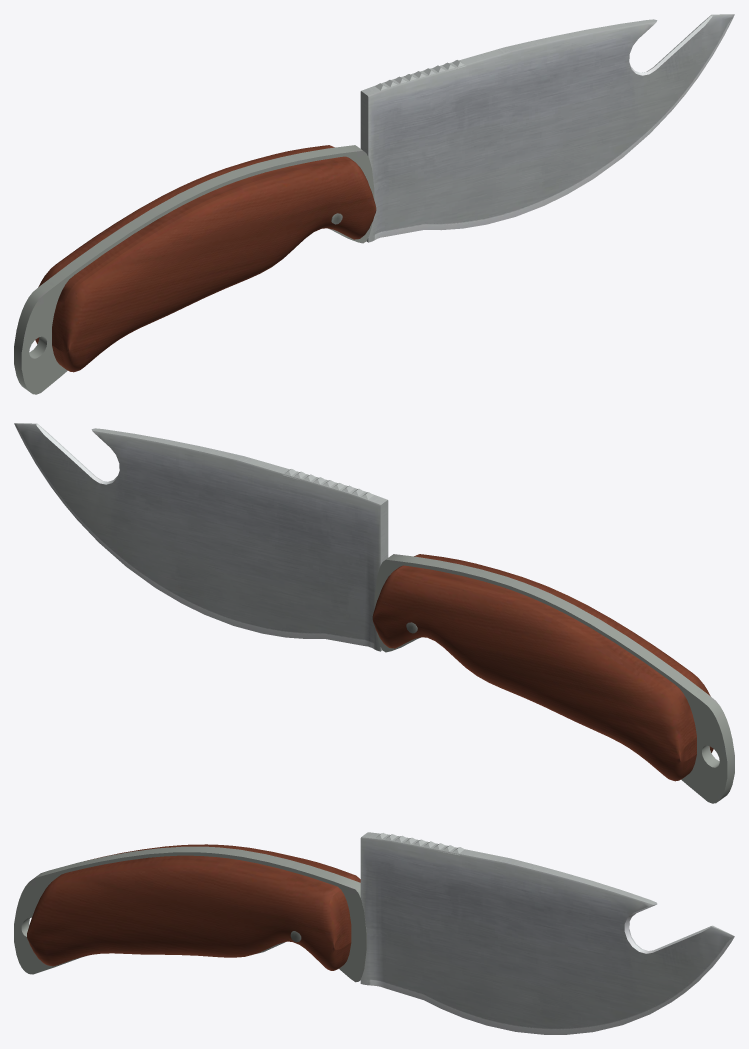
File: gut_lod1.glb
3 views of the same model, one above another, from view 1: azimuth 30°, elevation 25°; view 2: azimuth 150°, elevation 25°; view 3: azimuth 330°, elevation 25° (orthographic).
Parts seen in each view (by area): view 1: body; view 2: body; view 3: body.
Boxes of the visible parts, x1,y1,x2,y2 form: body: (14, 14, 734, 394); body: (14, 423, 734, 803); body: (14, 832, 734, 1034).
Bounding box in the file's own units: 0.24 × 0.0726 × 0.0245.
Materials: 5 (5 with a texture image).
